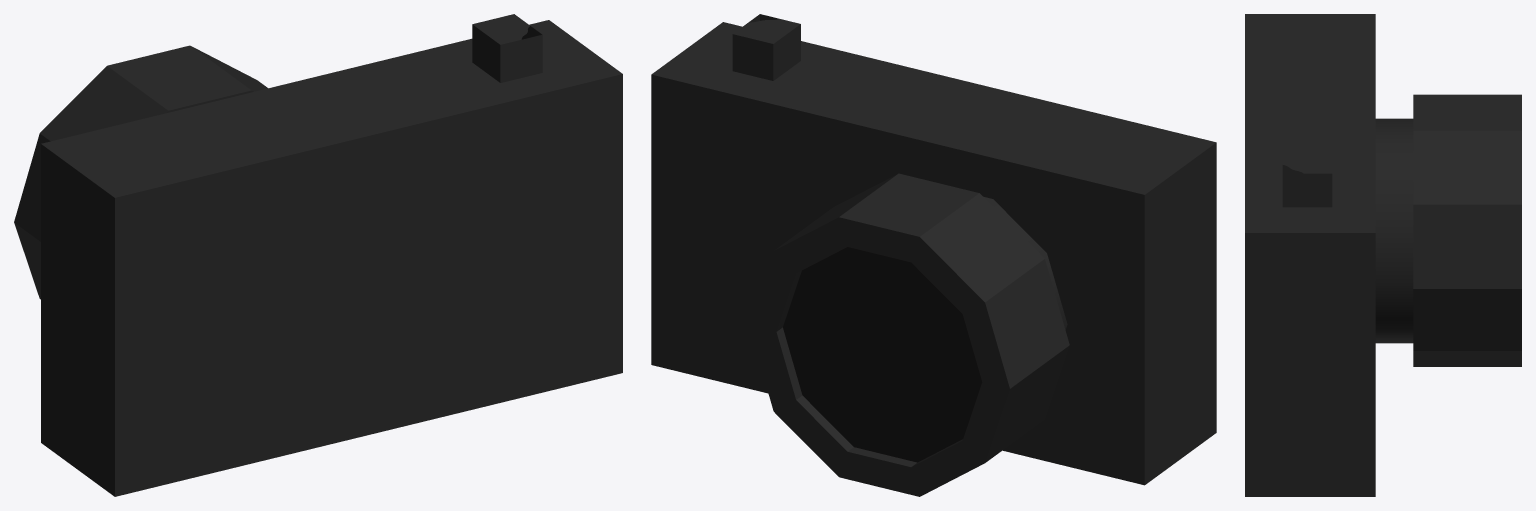
Rendered from Camera.FBX.
3 renders of one model, left to right at view 1: azimuth 30°, elevation 25°; view 2: azimuth 150°, elevation 25°; view 3: azimuth 270°, elevation 25°, orthographic. The views are drawn at different scales.
Visible parts, largest first — view 1: Camera; view 2: Camera; view 3: Camera.
Boxes of the visible parts, x1,y1,x2,y2 form: Camera: (14, 14, 622, 496); Camera: (651, 14, 1216, 496); Camera: (1245, 14, 1521, 496).
Bounding box in the file's own units: 6.32 × 4.01 × 3.38.
1 material, 1 textured.
